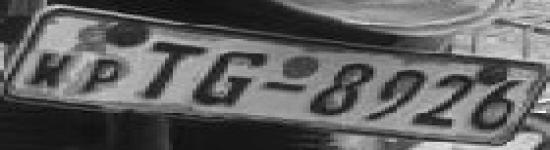-: (252, 77, 319, 99)
2: (397, 65, 493, 134)
6: (460, 74, 539, 137)
8: (291, 57, 393, 121)
9: (351, 60, 445, 126)
G: (178, 42, 278, 112)
P: (78, 56, 128, 97)
T: (127, 32, 219, 105)
W: (30, 48, 74, 90)
